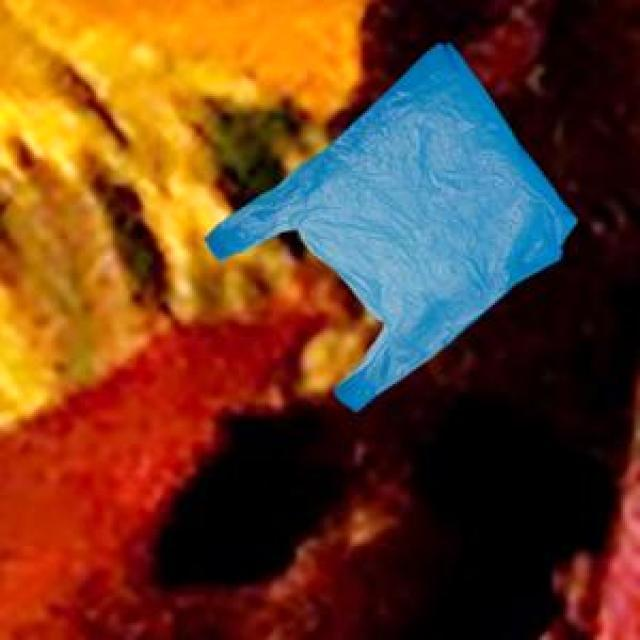Plastic_Bag: (202, 39, 572, 408)
